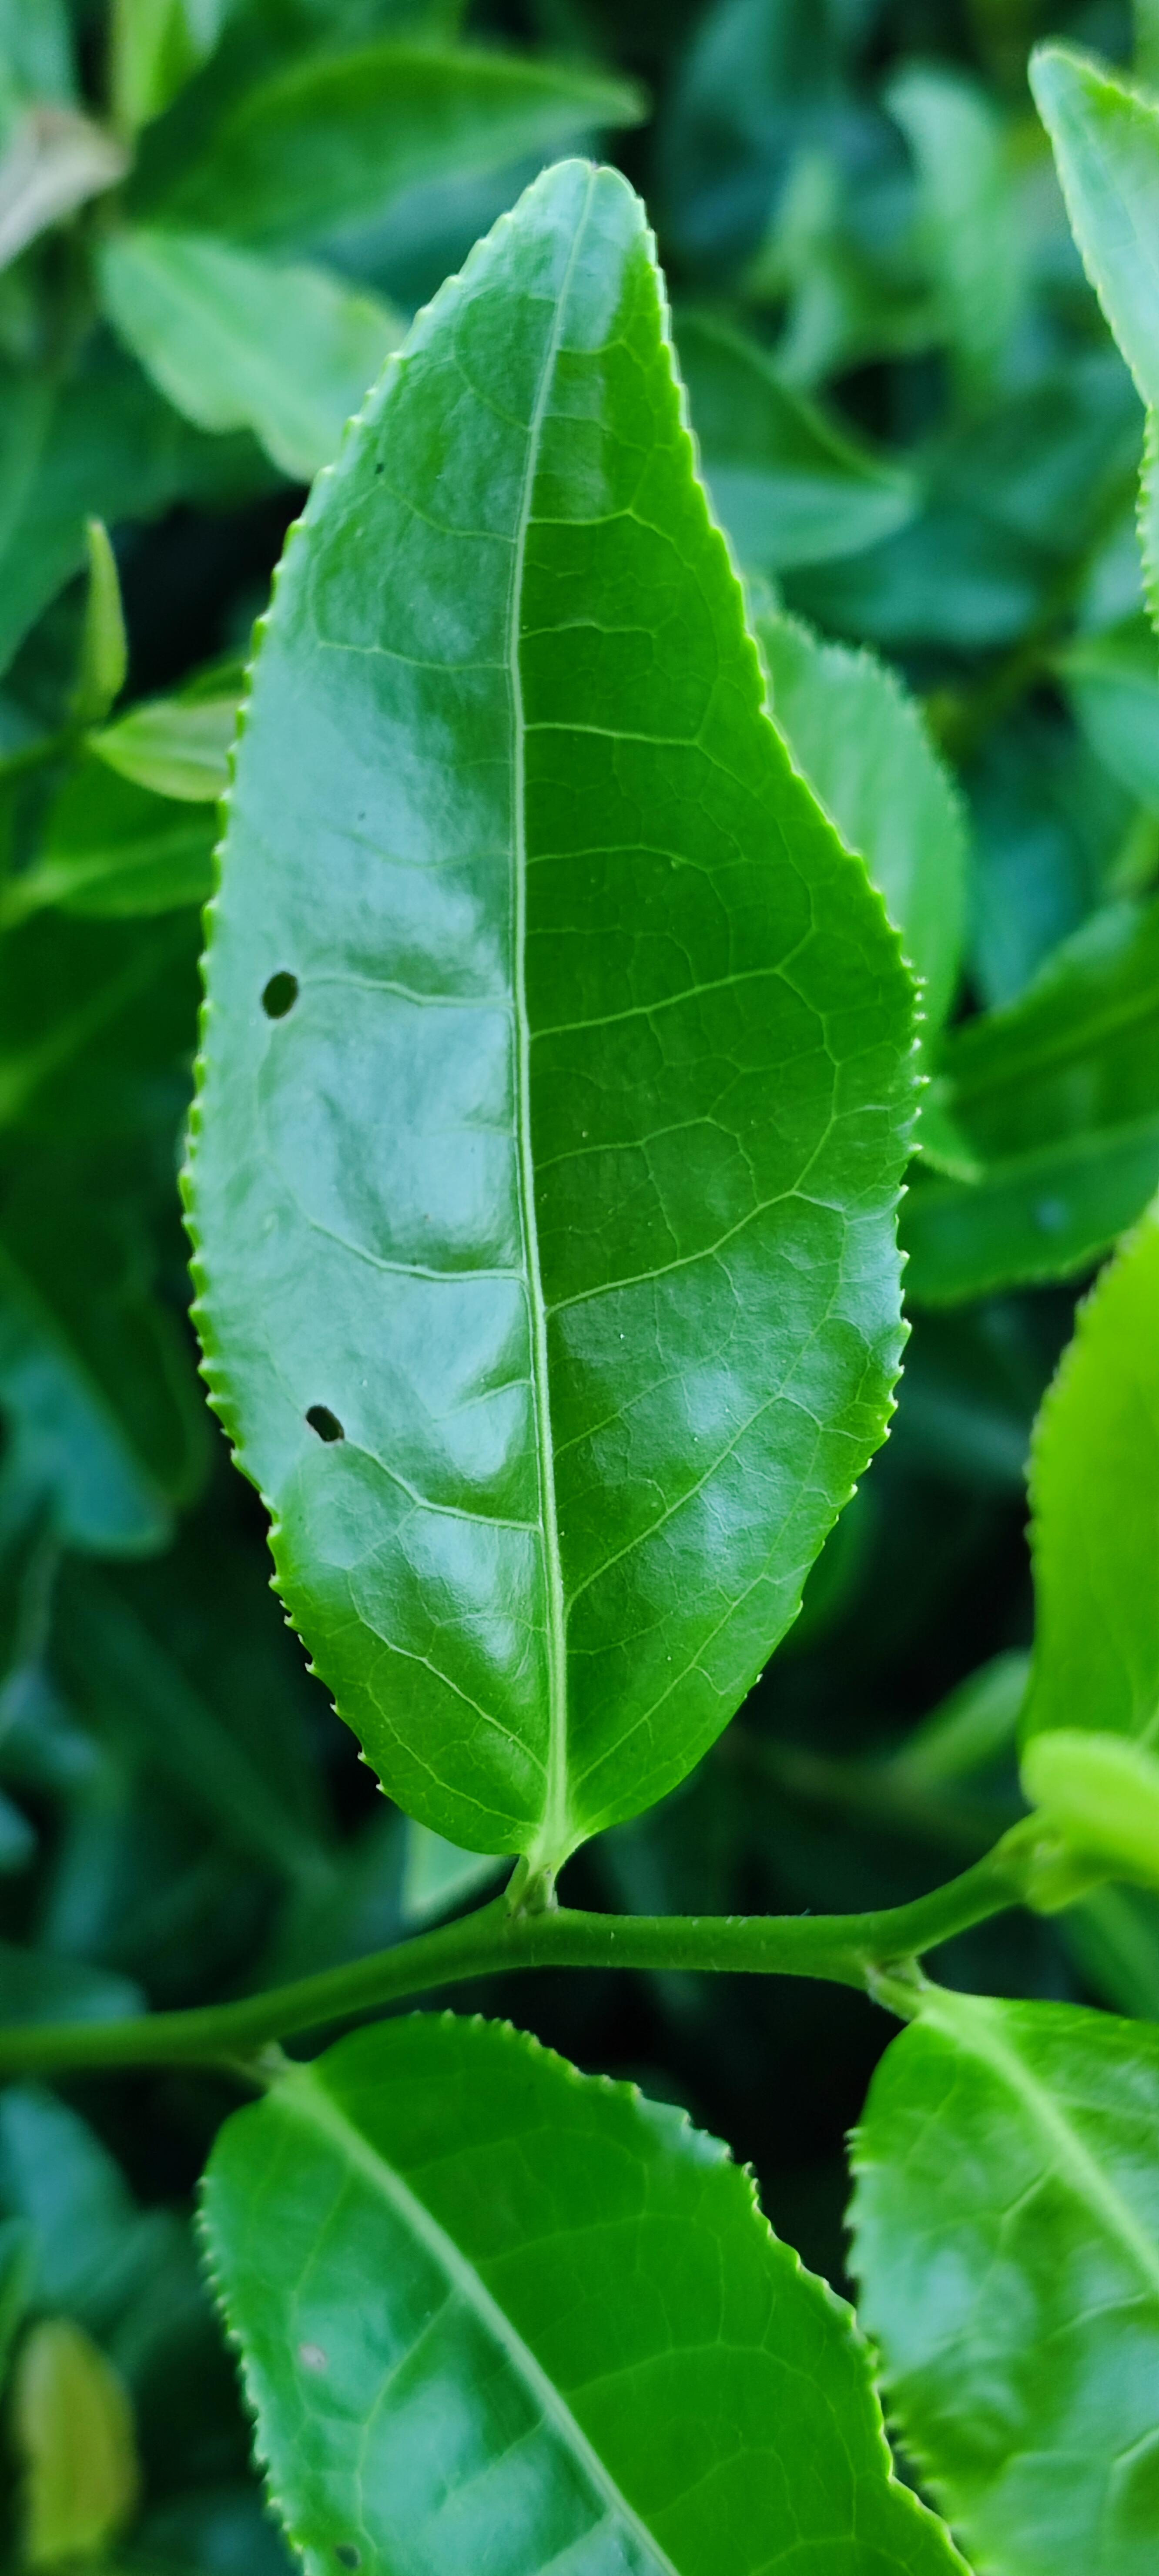chihuo_high: (177, 148, 932, 1853)
healthy: (197, 2001, 973, 2563), (837, 1978, 1154, 2564)
